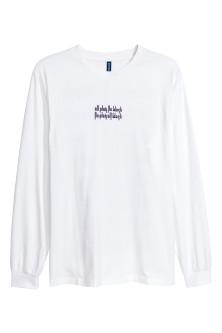teeshirt: (8, 44, 216, 302)
